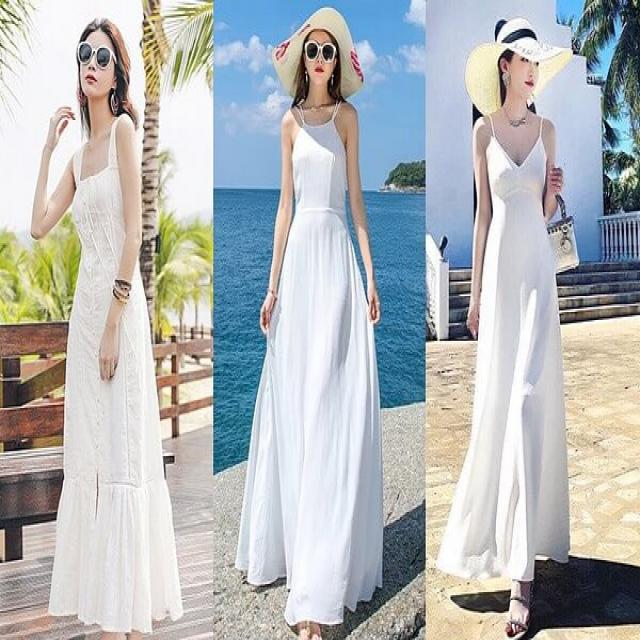clothes: (235, 96, 386, 624), (53, 112, 183, 630), (458, 108, 574, 581)
